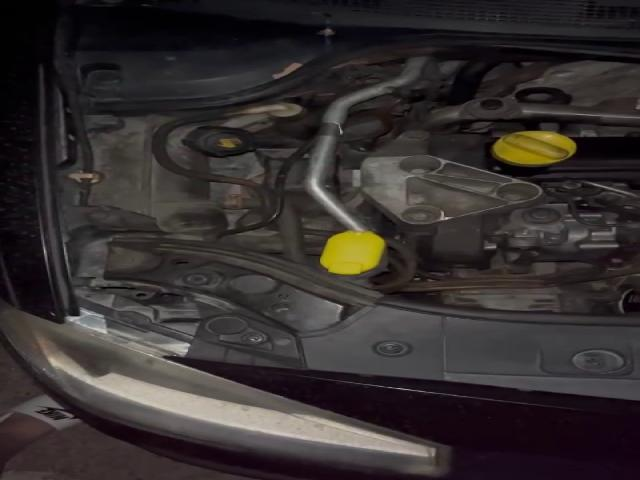antifreeze_tank: (88, 115, 229, 233), (166, 119, 263, 172)
